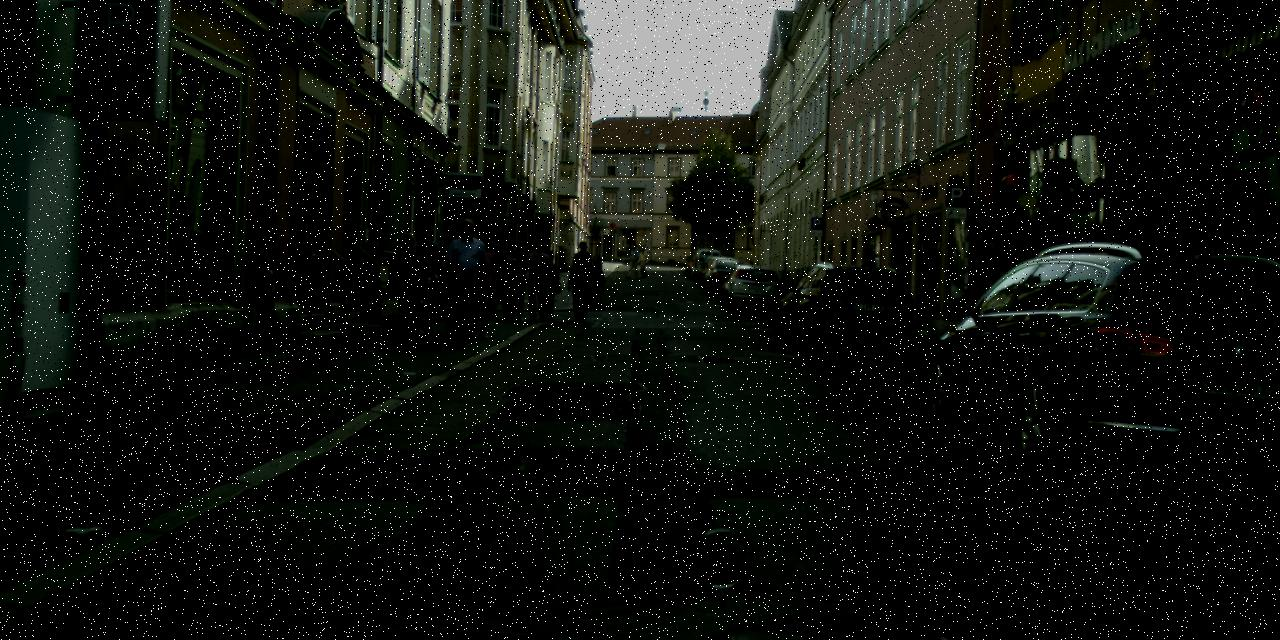ped: (440, 218, 491, 344), (386, 231, 430, 339), (399, 225, 443, 332), (461, 238, 501, 337), (521, 240, 554, 320), (437, 259, 467, 335), (477, 241, 507, 315), (494, 245, 524, 318), (503, 247, 532, 317), (566, 251, 594, 321), (535, 251, 562, 318), (570, 240, 594, 302), (585, 254, 604, 301), (626, 245, 640, 278), (637, 246, 649, 277)
